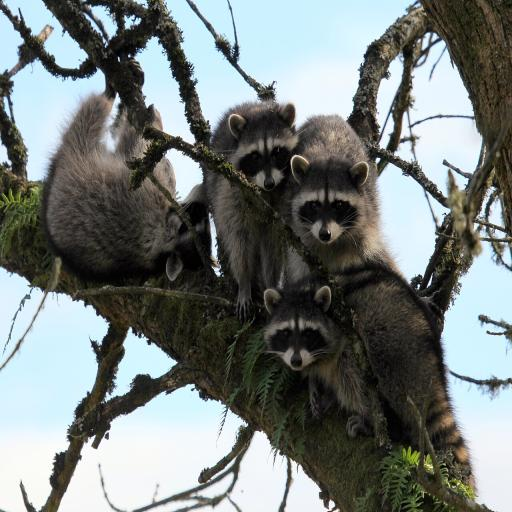raccoon: (42, 87, 201, 282), (336, 263, 470, 474), (285, 115, 397, 271), (205, 172, 283, 320)
